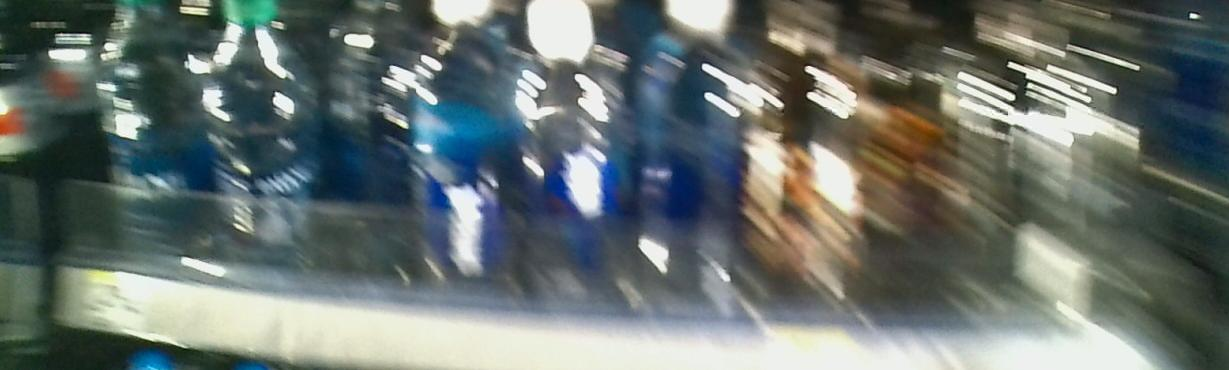bottle: (408, 1, 513, 296), (521, 4, 623, 304), (638, 2, 738, 307), (204, 2, 306, 282), (96, 5, 197, 251)
